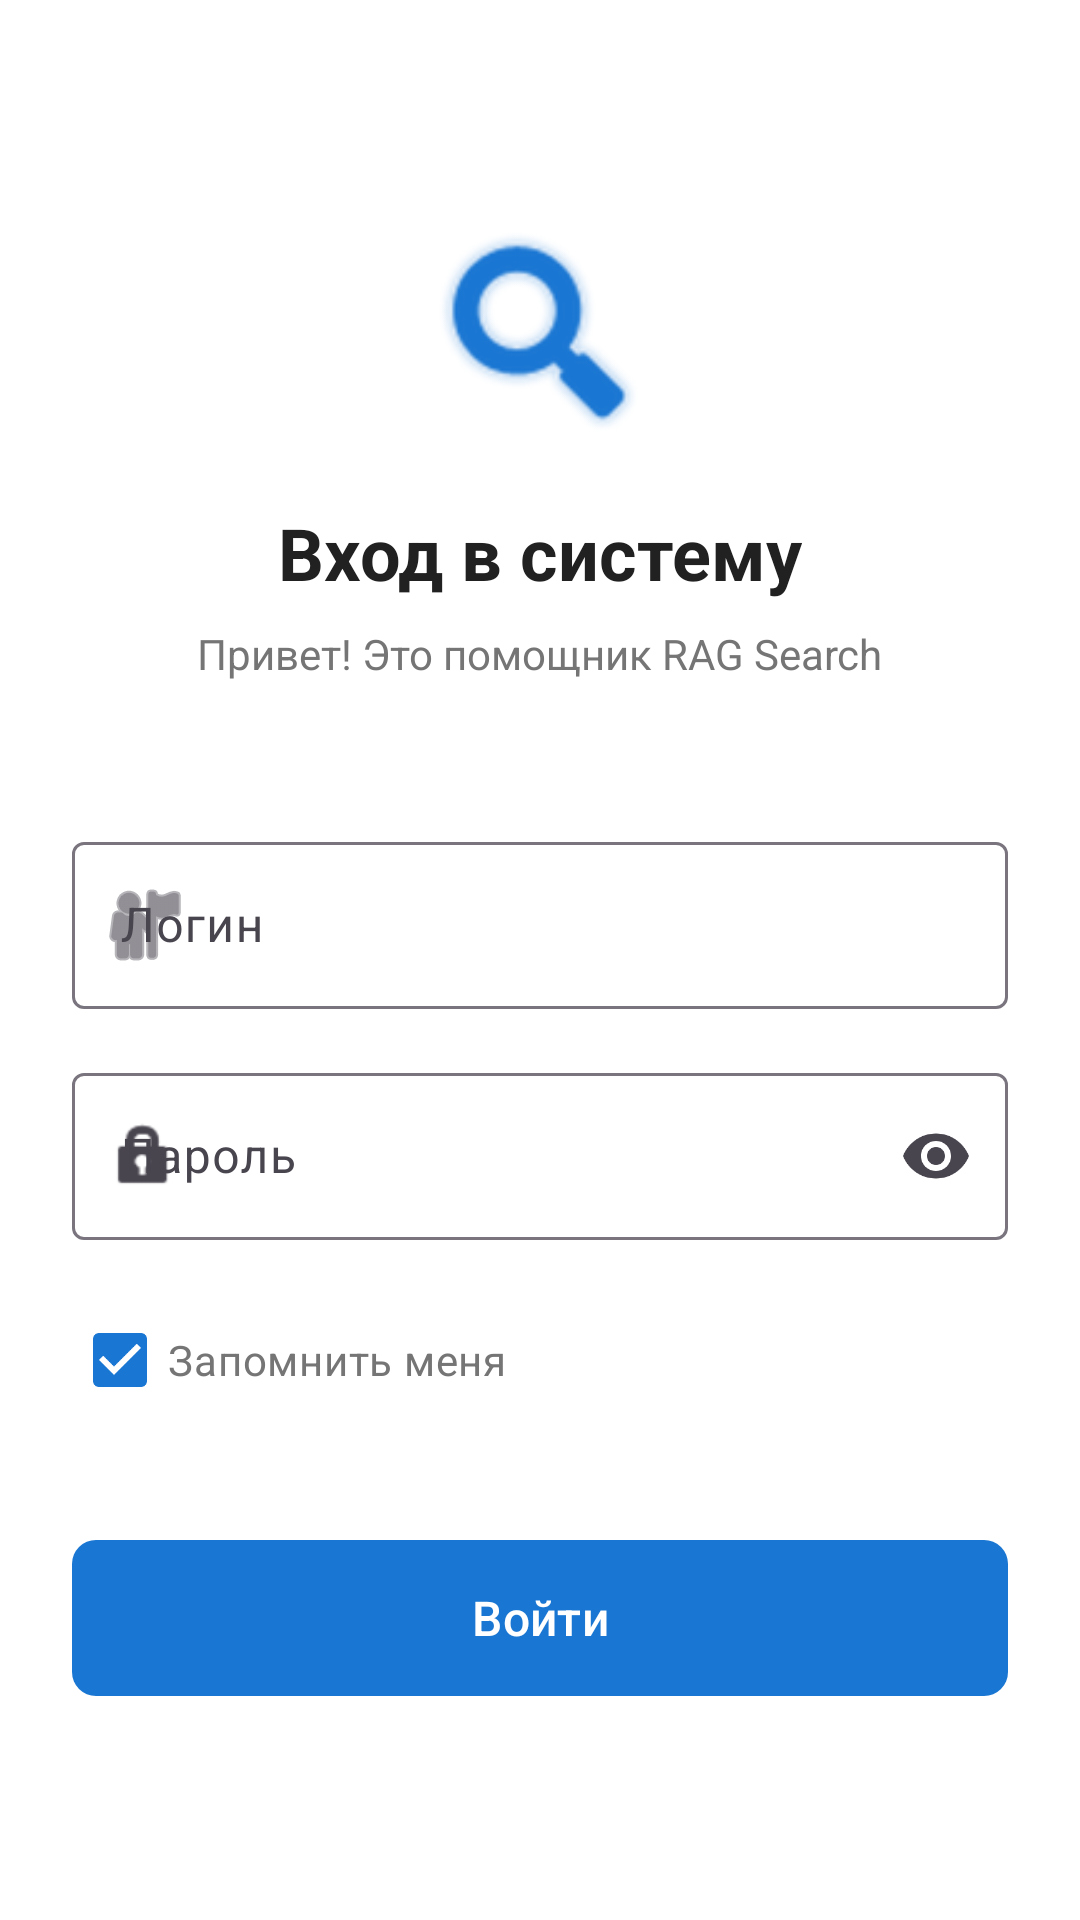

Icons on this 1080w x 1920h Android screen, each with the point to tap as point (x, y):
search category: point (538, 331)
